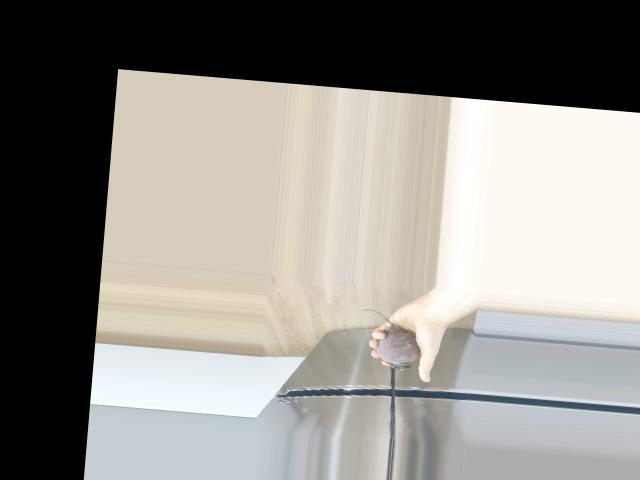beet: (355, 308, 423, 371)
